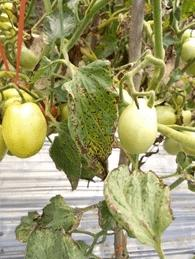Bacterial Spot: (57, 58, 124, 175), (101, 161, 177, 246)
